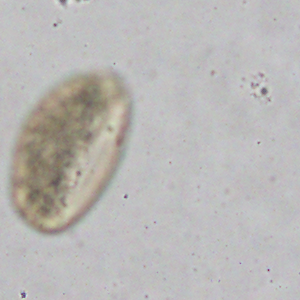Fasciola_hepatica_egg: (8, 68, 133, 235)
